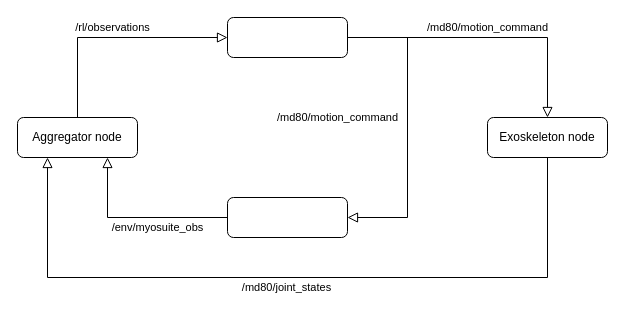
The diagram is 625 pixels wide and 311 high, and some of its shapes have lost their labels. The centre of each missing label's shape, as x and y in pixels:
"Environment simulator node" belongs at point (287, 217).
"Reinforced Learning node" belongs at point (287, 37).
